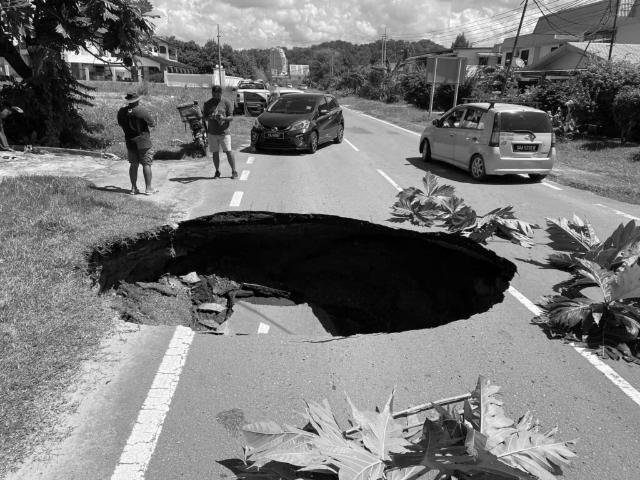Pothole: (80, 207, 516, 347)
